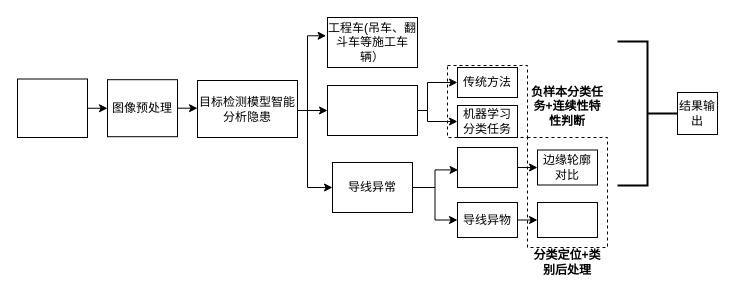
This 735x295 diagram has some shape labels left out. Here are the shapes that lost their labels. From the top down, the box of each, then its label:
(16, 78, 88, 138): 待分析图片
(326, 84, 418, 136): 火焰和烟雾
(456, 146, 518, 188): 导线覆冰
(536, 202, 598, 238): 直线特征检测
